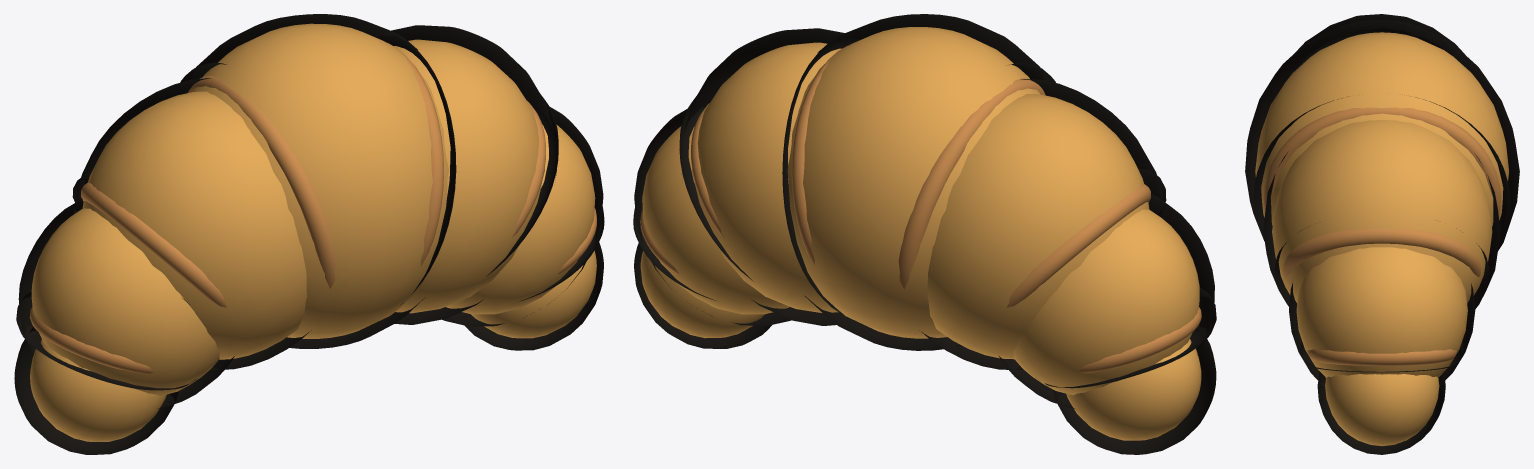
The model's file is croissant.glb.
3 renders of one model, left to right at view 1: azimuth 30°, elevation 25°; view 2: azimuth 150°, elevation 25°; view 3: azimuth 270°, elevation 25°, orthographic. The views are drawn at different scales.
Parts seen in each view (by area): view 1: Croissant, Croissant_outline; view 2: Croissant, Croissant_outline; view 3: Croissant, Croissant_outline.
Part boxes in pixels (x1=…): Croissant: x1=29, y1=23, x2=596, y2=441; Croissant_outline: x1=14, y1=14, x2=604, y2=454; Croissant: x1=640, y1=27, x2=1201, y2=440; Croissant_outline: x1=633, y1=14, x2=1216, y2=454; Croissant: x1=1255, y1=32, x2=1508, y2=446; Croissant_outline: x1=1245, y1=14, x2=1519, y2=454.
Size of the model in its own units: 1.6 by 0.993 by 0.7609.
